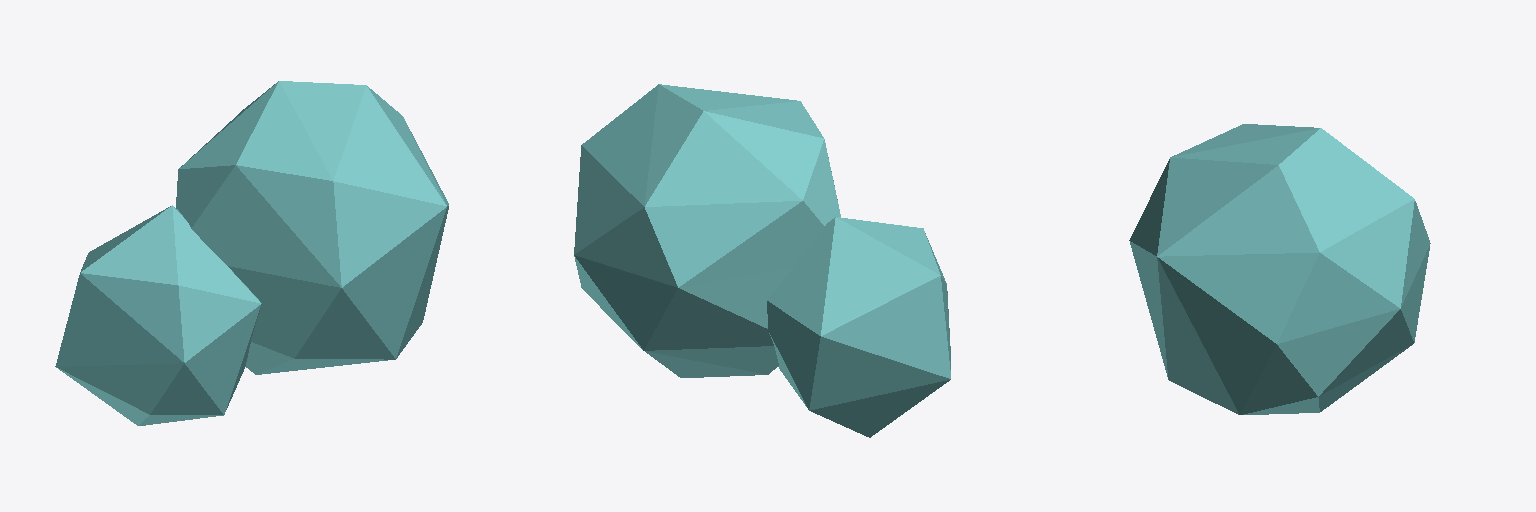
Rendered from Cloud.obj.
3 renders of one model, left to right at view 1: azimuth 30°, elevation 25°; view 2: azimuth 150°, elevation 25°; view 3: azimuth 270°, elevation 25°, orthographic.
Visible parts, largest first — view 1: Cloud_Object_88_Object_42.001; view 2: Cloud_Object_88_Object_42.001; view 3: Cloud_Object_88_Object_42.001.
Part boxes in pixels (bbox=[...]): Cloud_Object_88_Object_42.001: bbox=[55, 81, 448, 425]; Cloud_Object_88_Object_42.001: bbox=[574, 84, 950, 437]; Cloud_Object_88_Object_42.001: bbox=[1129, 124, 1430, 414].
Bounding box in the file's own units: 1.05 × 0.7799 × 0.7127.